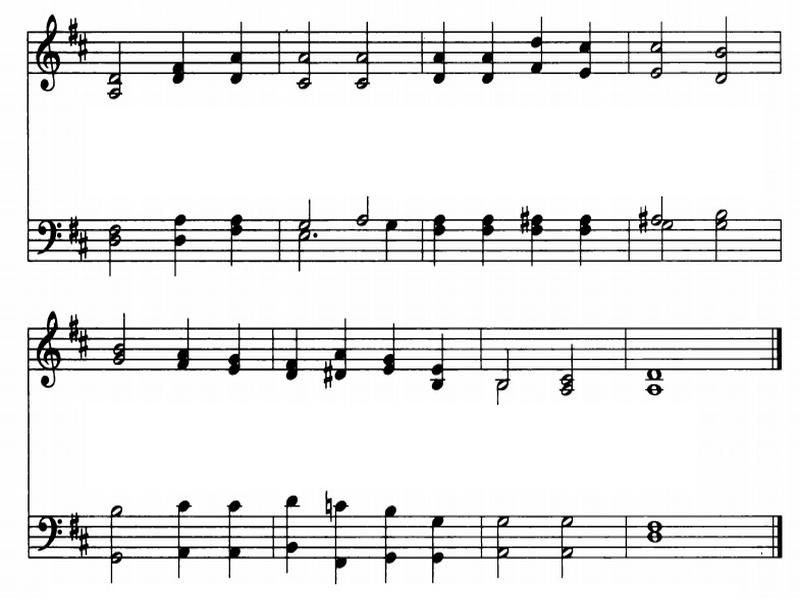B: (711, 12, 740, 96), (103, 507, 130, 587), (294, 11, 319, 94), (107, 209, 137, 278), (105, 312, 137, 375), (488, 507, 516, 578), (557, 338, 586, 404), (642, 21, 672, 84), (352, 17, 375, 91), (710, 199, 735, 266), (492, 336, 517, 387), (109, 38, 128, 104), (354, 184, 381, 227), (559, 510, 576, 578), (291, 232, 309, 274), (662, 218, 680, 257), (491, 378, 512, 404), (296, 201, 315, 229), (652, 198, 667, 226)
CF: (29, 215, 66, 259), (33, 506, 61, 559)
CS: (31, 303, 67, 409), (31, 10, 66, 103)
N: (161, 492, 205, 584), (282, 466, 316, 576), (214, 486, 247, 579), (470, 13, 508, 89), (374, 499, 407, 583), (158, 208, 201, 270), (220, 3, 250, 88), (167, 14, 198, 86), (375, 308, 405, 382), (174, 308, 205, 374), (429, 21, 461, 84), (526, 9, 554, 81), (334, 496, 358, 580), (571, 14, 600, 82), (572, 207, 602, 270), (333, 311, 357, 385), (220, 318, 247, 383), (425, 507, 449, 580), (428, 325, 453, 395), (219, 212, 251, 266), (470, 212, 495, 270), (430, 207, 454, 264), (527, 213, 552, 266), (281, 329, 304, 384), (383, 219, 406, 266)
P: (310, 227, 326, 245)
R: (639, 383, 668, 401), (641, 515, 665, 531), (642, 534, 667, 548), (644, 365, 665, 380)
SOS: (631, 208, 653, 241), (75, 233, 89, 274), (317, 493, 338, 520), (319, 356, 334, 392), (61, 14, 77, 44), (76, 34, 93, 62), (515, 207, 532, 233), (66, 510, 79, 543), (66, 211, 78, 244), (64, 313, 79, 339), (79, 330, 90, 361), (79, 532, 92, 557)
